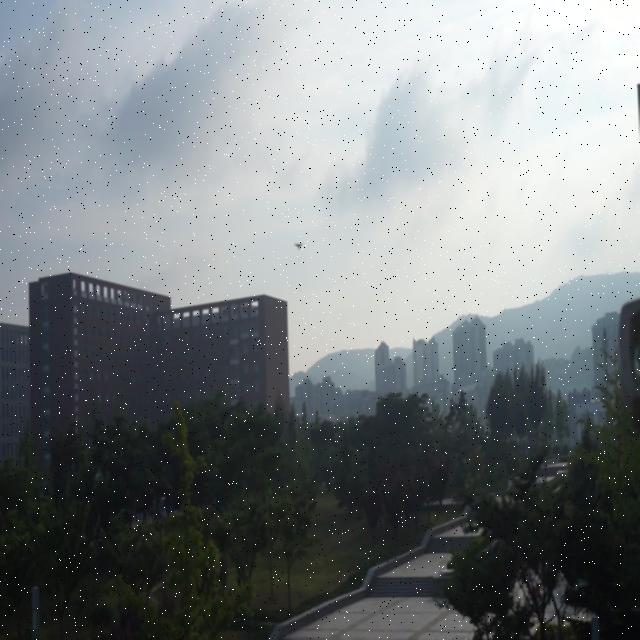UAV: (294, 243, 304, 250)
